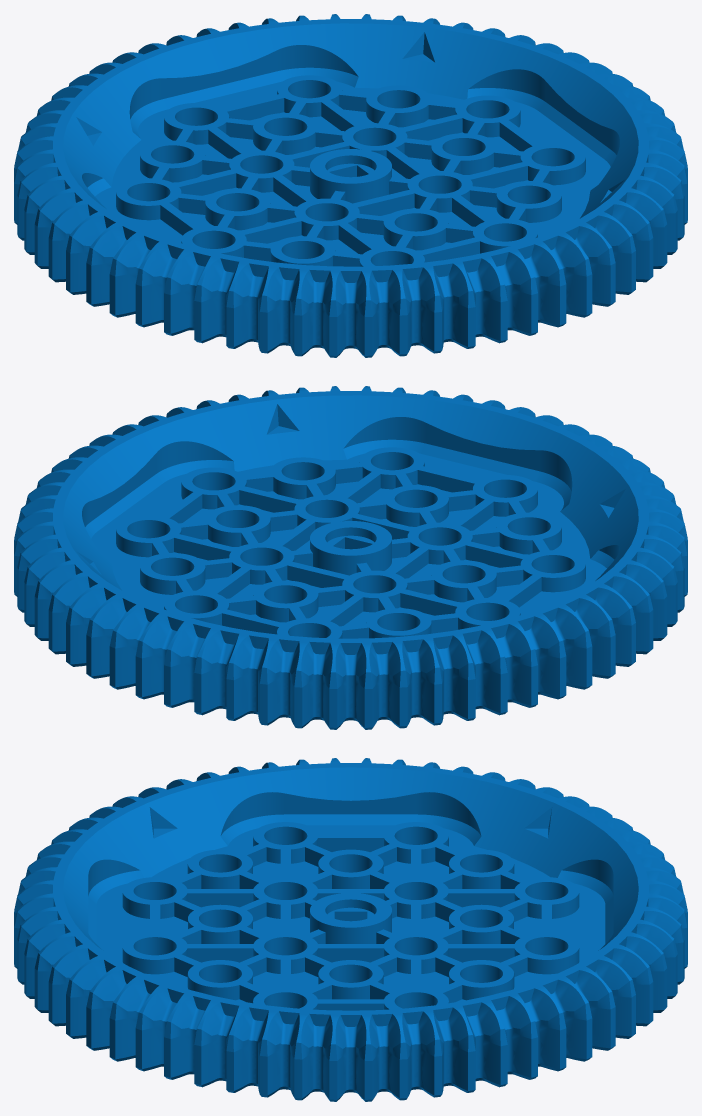
3 renders of one model, top to bottom at view 1: azimuth 30°, elevation 25°; view 2: azimuth 150°, elevation 25°; view 3: azimuth 270°, elevation 25°, orthographic.
Parts seen in each view (by area): view 1: 60-Tooth Hybrid Gear (228-2500-254); view 2: 60-Tooth Hybrid Gear (228-2500-254); view 3: 60-Tooth Hybrid Gear (228-2500-254).
Boxes of the visible parts, left/top/right/bottom form: 60-Tooth Hybrid Gear (228-2500-254): left=14, top=14, right=687, bottom=357; 60-Tooth Hybrid Gear (228-2500-254): left=14, top=386, right=687, bottom=729; 60-Tooth Hybrid Gear (228-2500-254): left=14, top=758, right=687, bottom=1101.
Bounding box in the file's own units: 0.0656 × 0.00864 × 0.0656.
